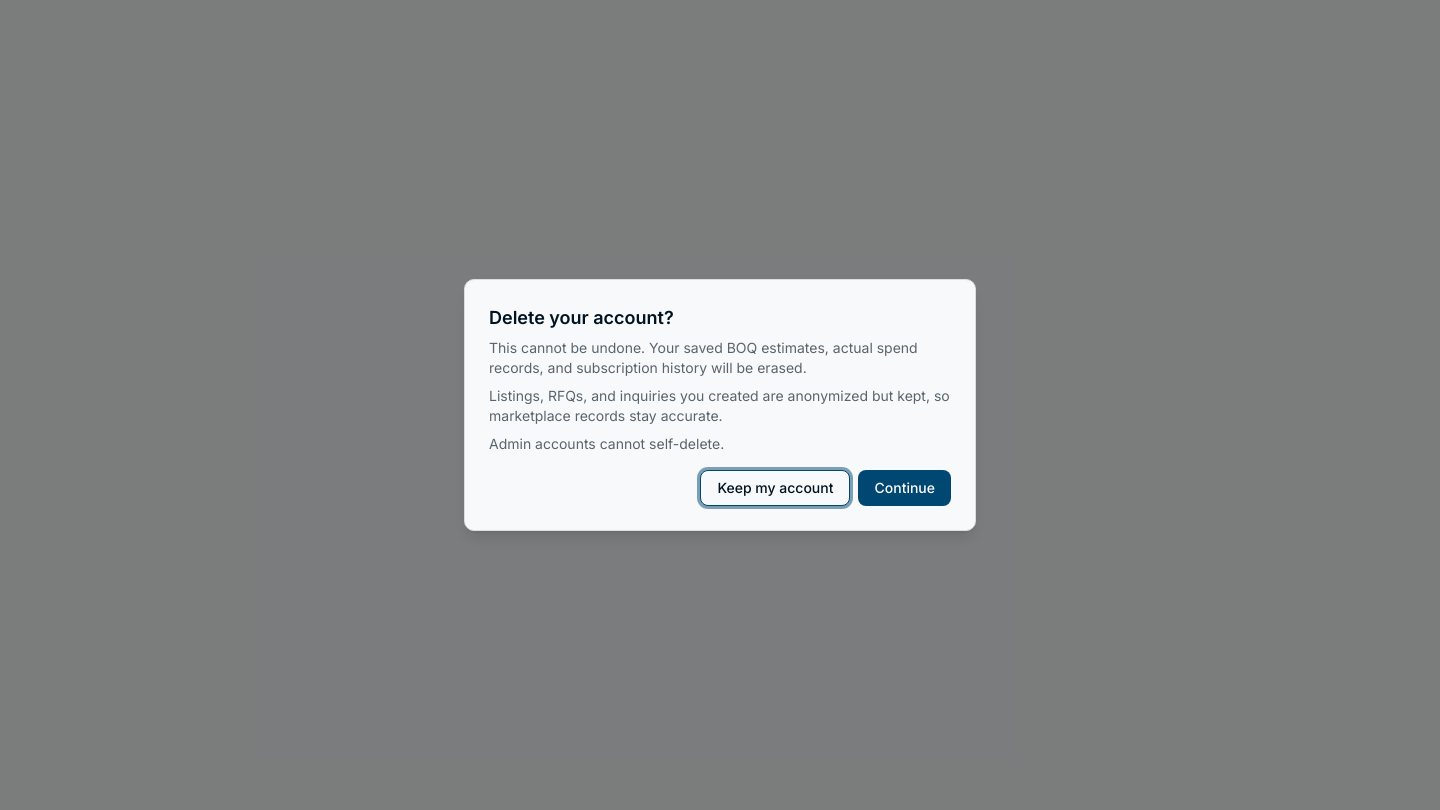
Test: DeleteAccountDialog (DOM) › Back returns to step 1 without running the RPC
This screenshot has width=1440, height=810.
Click the button "Continue" at (905, 488), box [858,470,951,506]
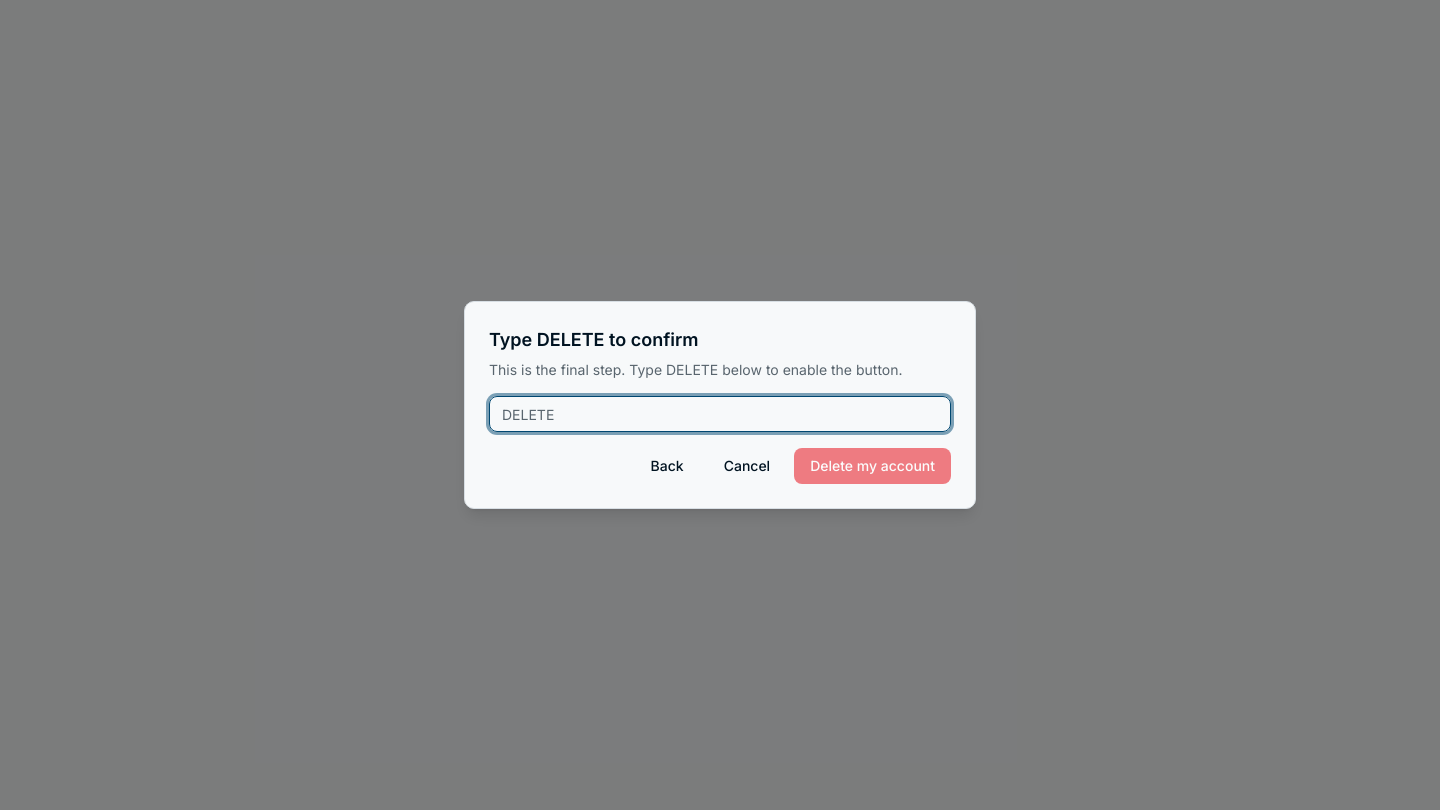
Check: the heading "Type DELETE to confirm" is shown, box [489,326,698,354]
Click the button "Back" at (667, 466), box [635,448,700,484]
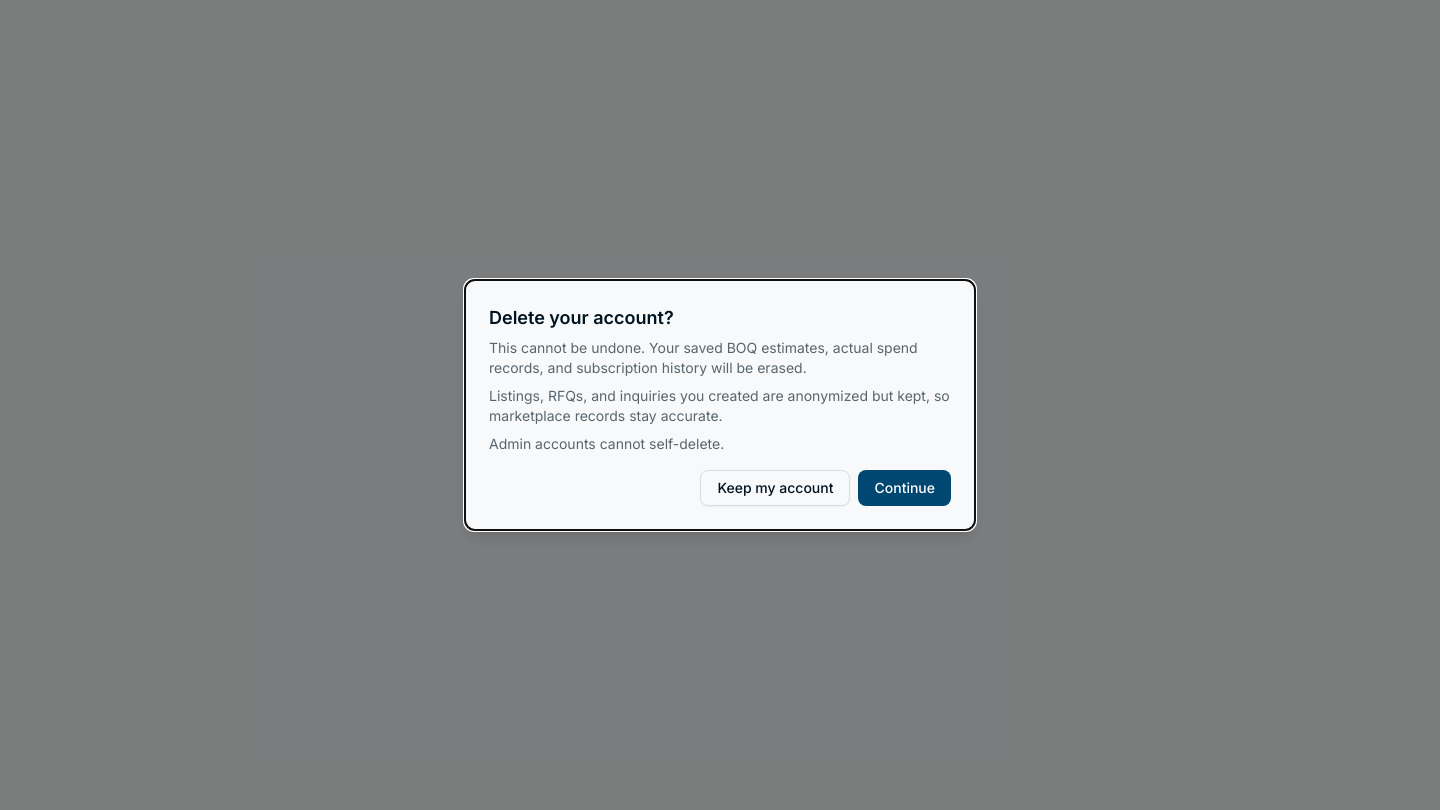
Check: the heading "Delete your account?" is shown, box [489,304,674,332]
